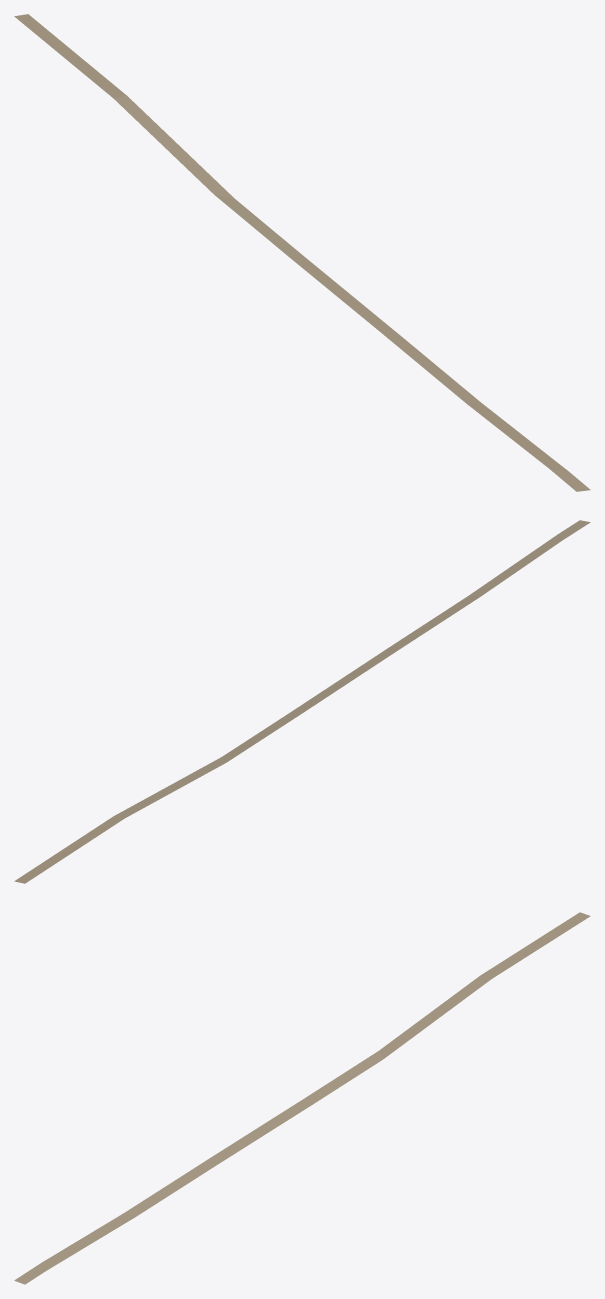
The model's file is farm_-22_-29_track.glb.
The picture shows the model from 3 angles, top to bottom: view 1: azimuth 30°, elevation 25°; view 2: azimuth 150°, elevation 25°; view 3: azimuth 330°, elevation 25°; orthographic projection. The views are drawn at different scales.
Parts seen in each view (by area): view 1: geometry_0; view 2: geometry_0; view 3: geometry_0.
Boxes of the visible parts, x1,y1,x2,y2 form: geometry_0: [14, 14, 590, 491]; geometry_0: [14, 520, 590, 883]; geometry_0: [14, 912, 590, 1284].
Bounding box in the file's own units: 17.68 × 3.05 × 255.
